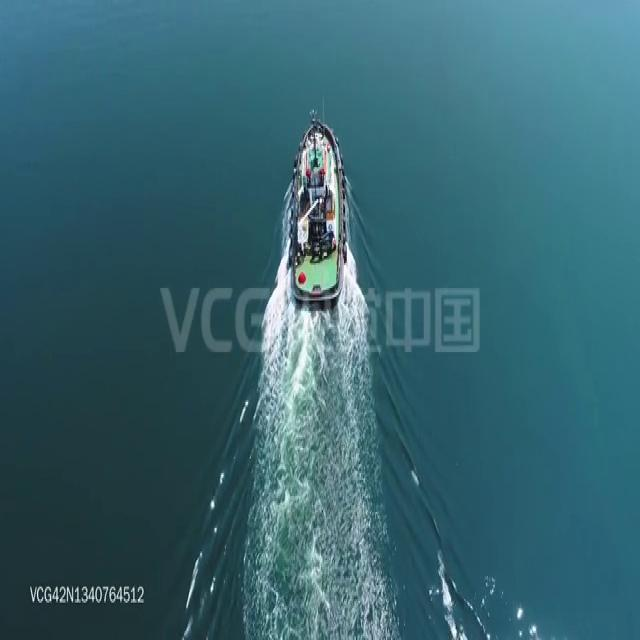houseboat: (286, 100, 348, 312)
